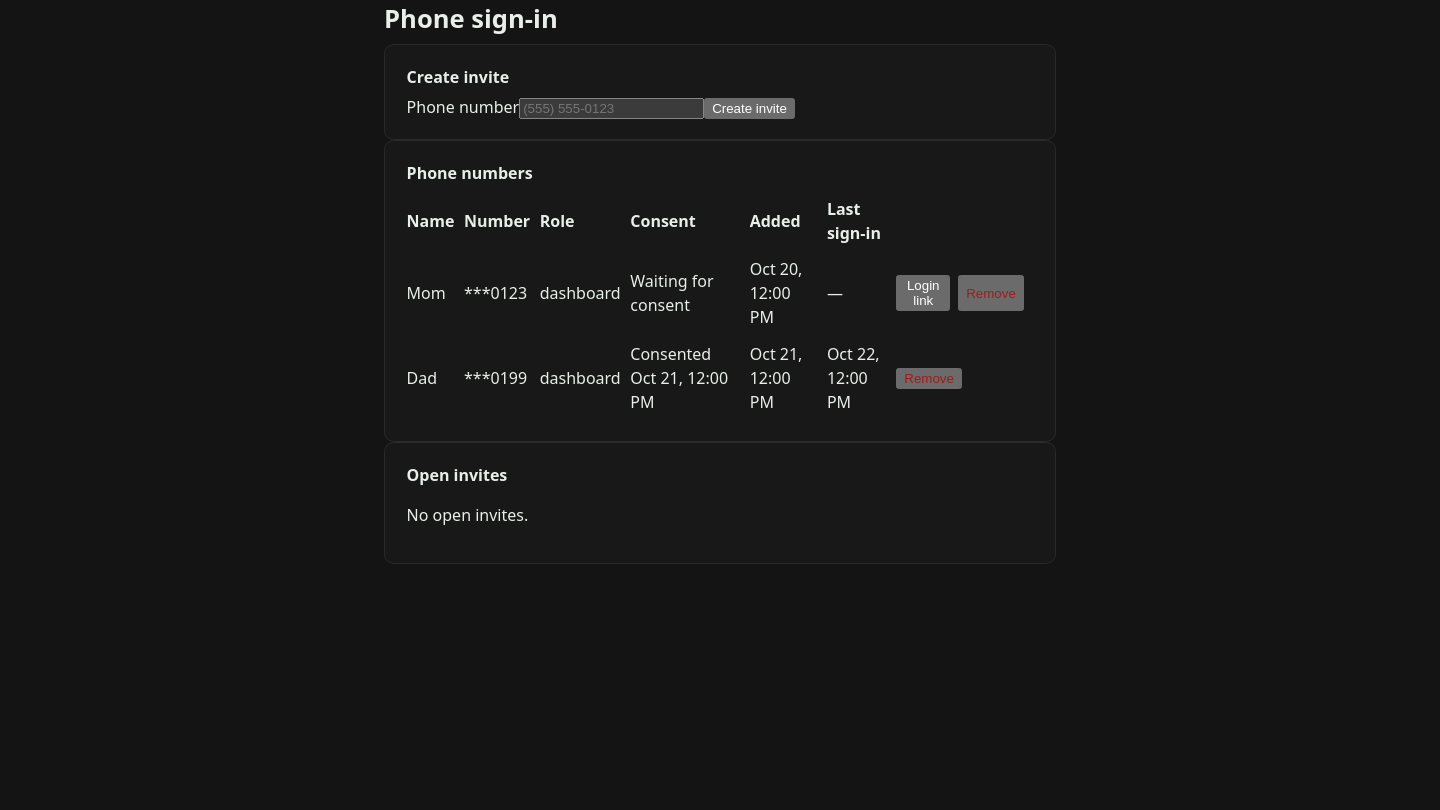
Test: opens the same link from the row until the first sign-in
Click the button "Login link": (923, 293) [896,275,950,311]
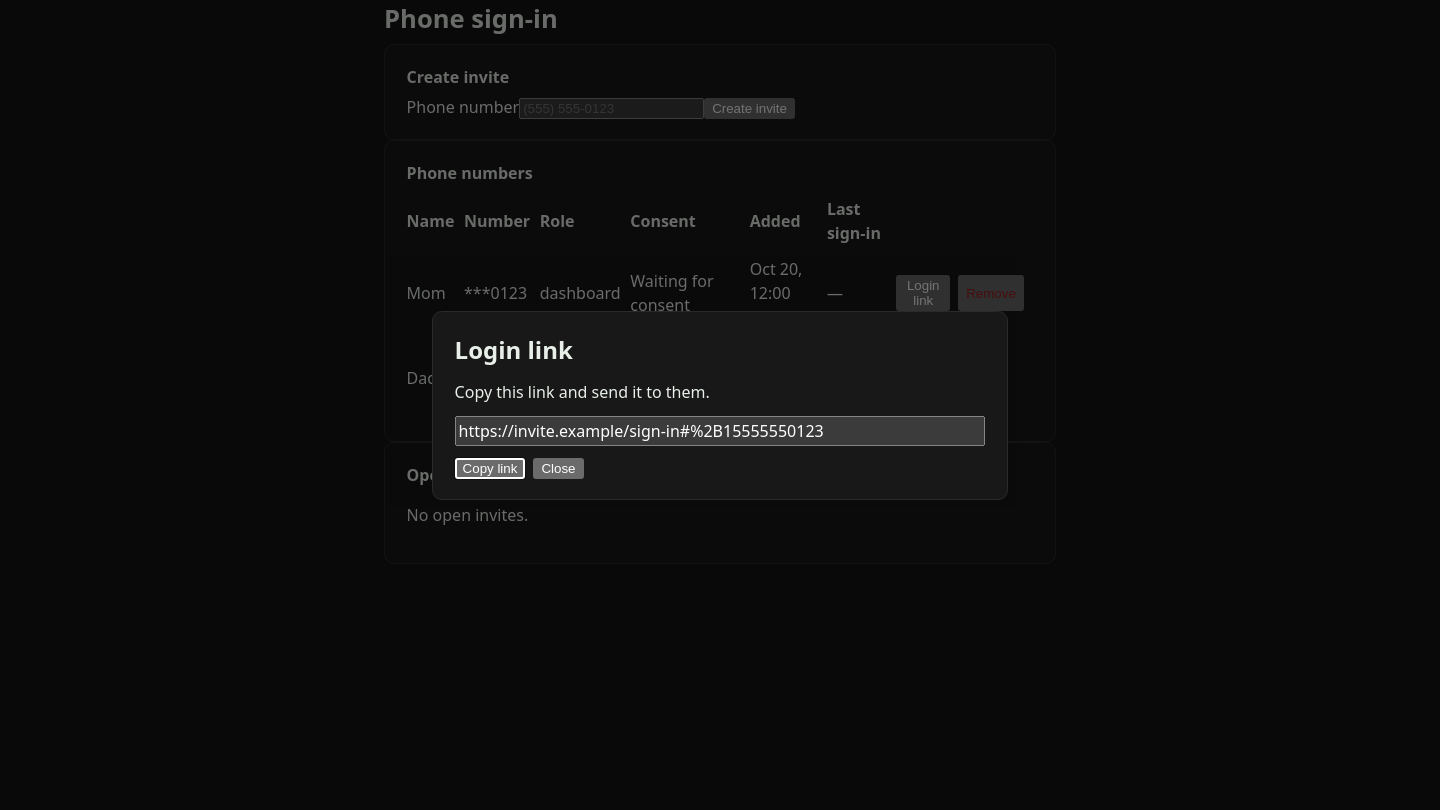
Expected: the field named "Login link" holds "https://invite.example/sign-in#%2B15555550123", [455,416,985,446]
Click the button "Close": (558, 468) [533,458,584,478]
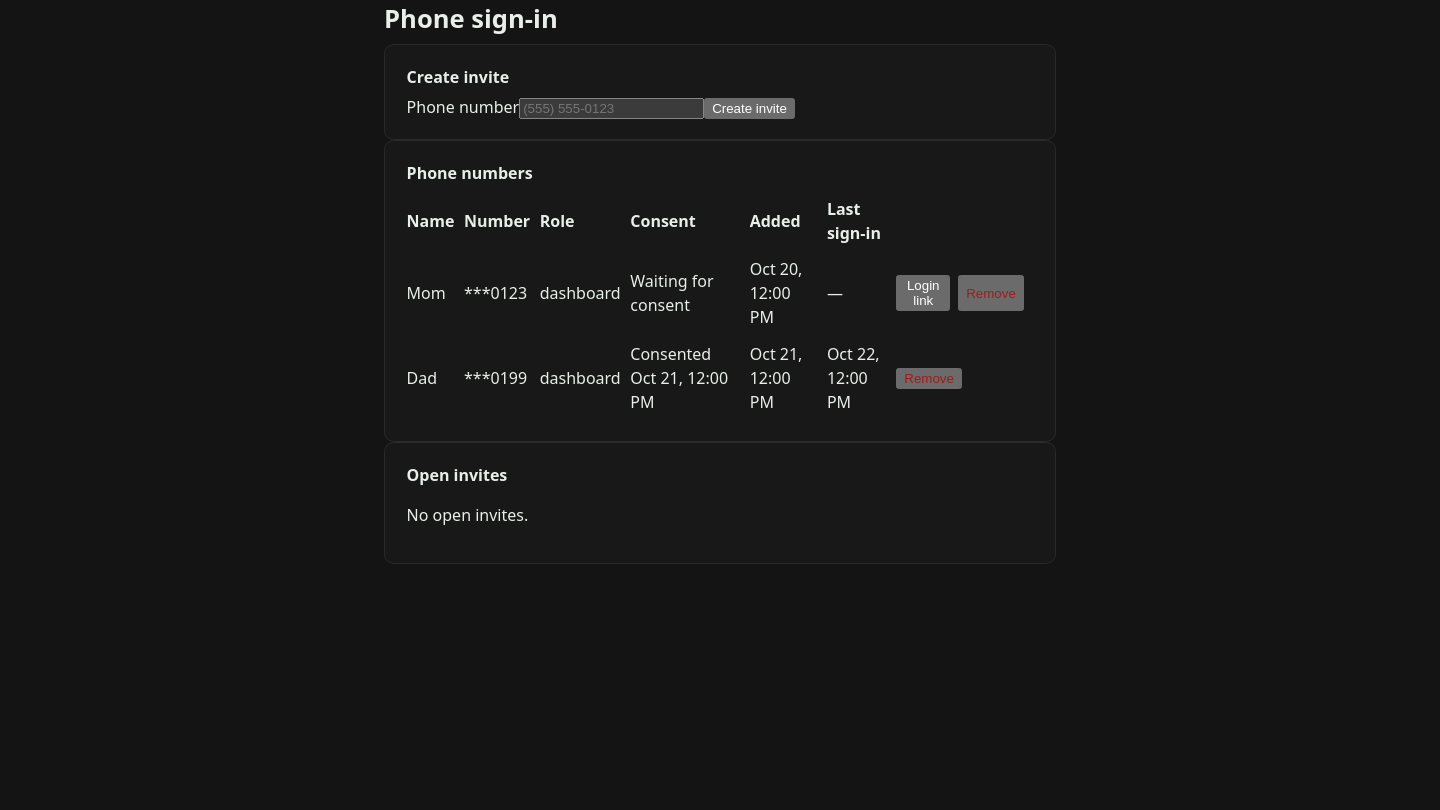
Expected: the dialog is gone
